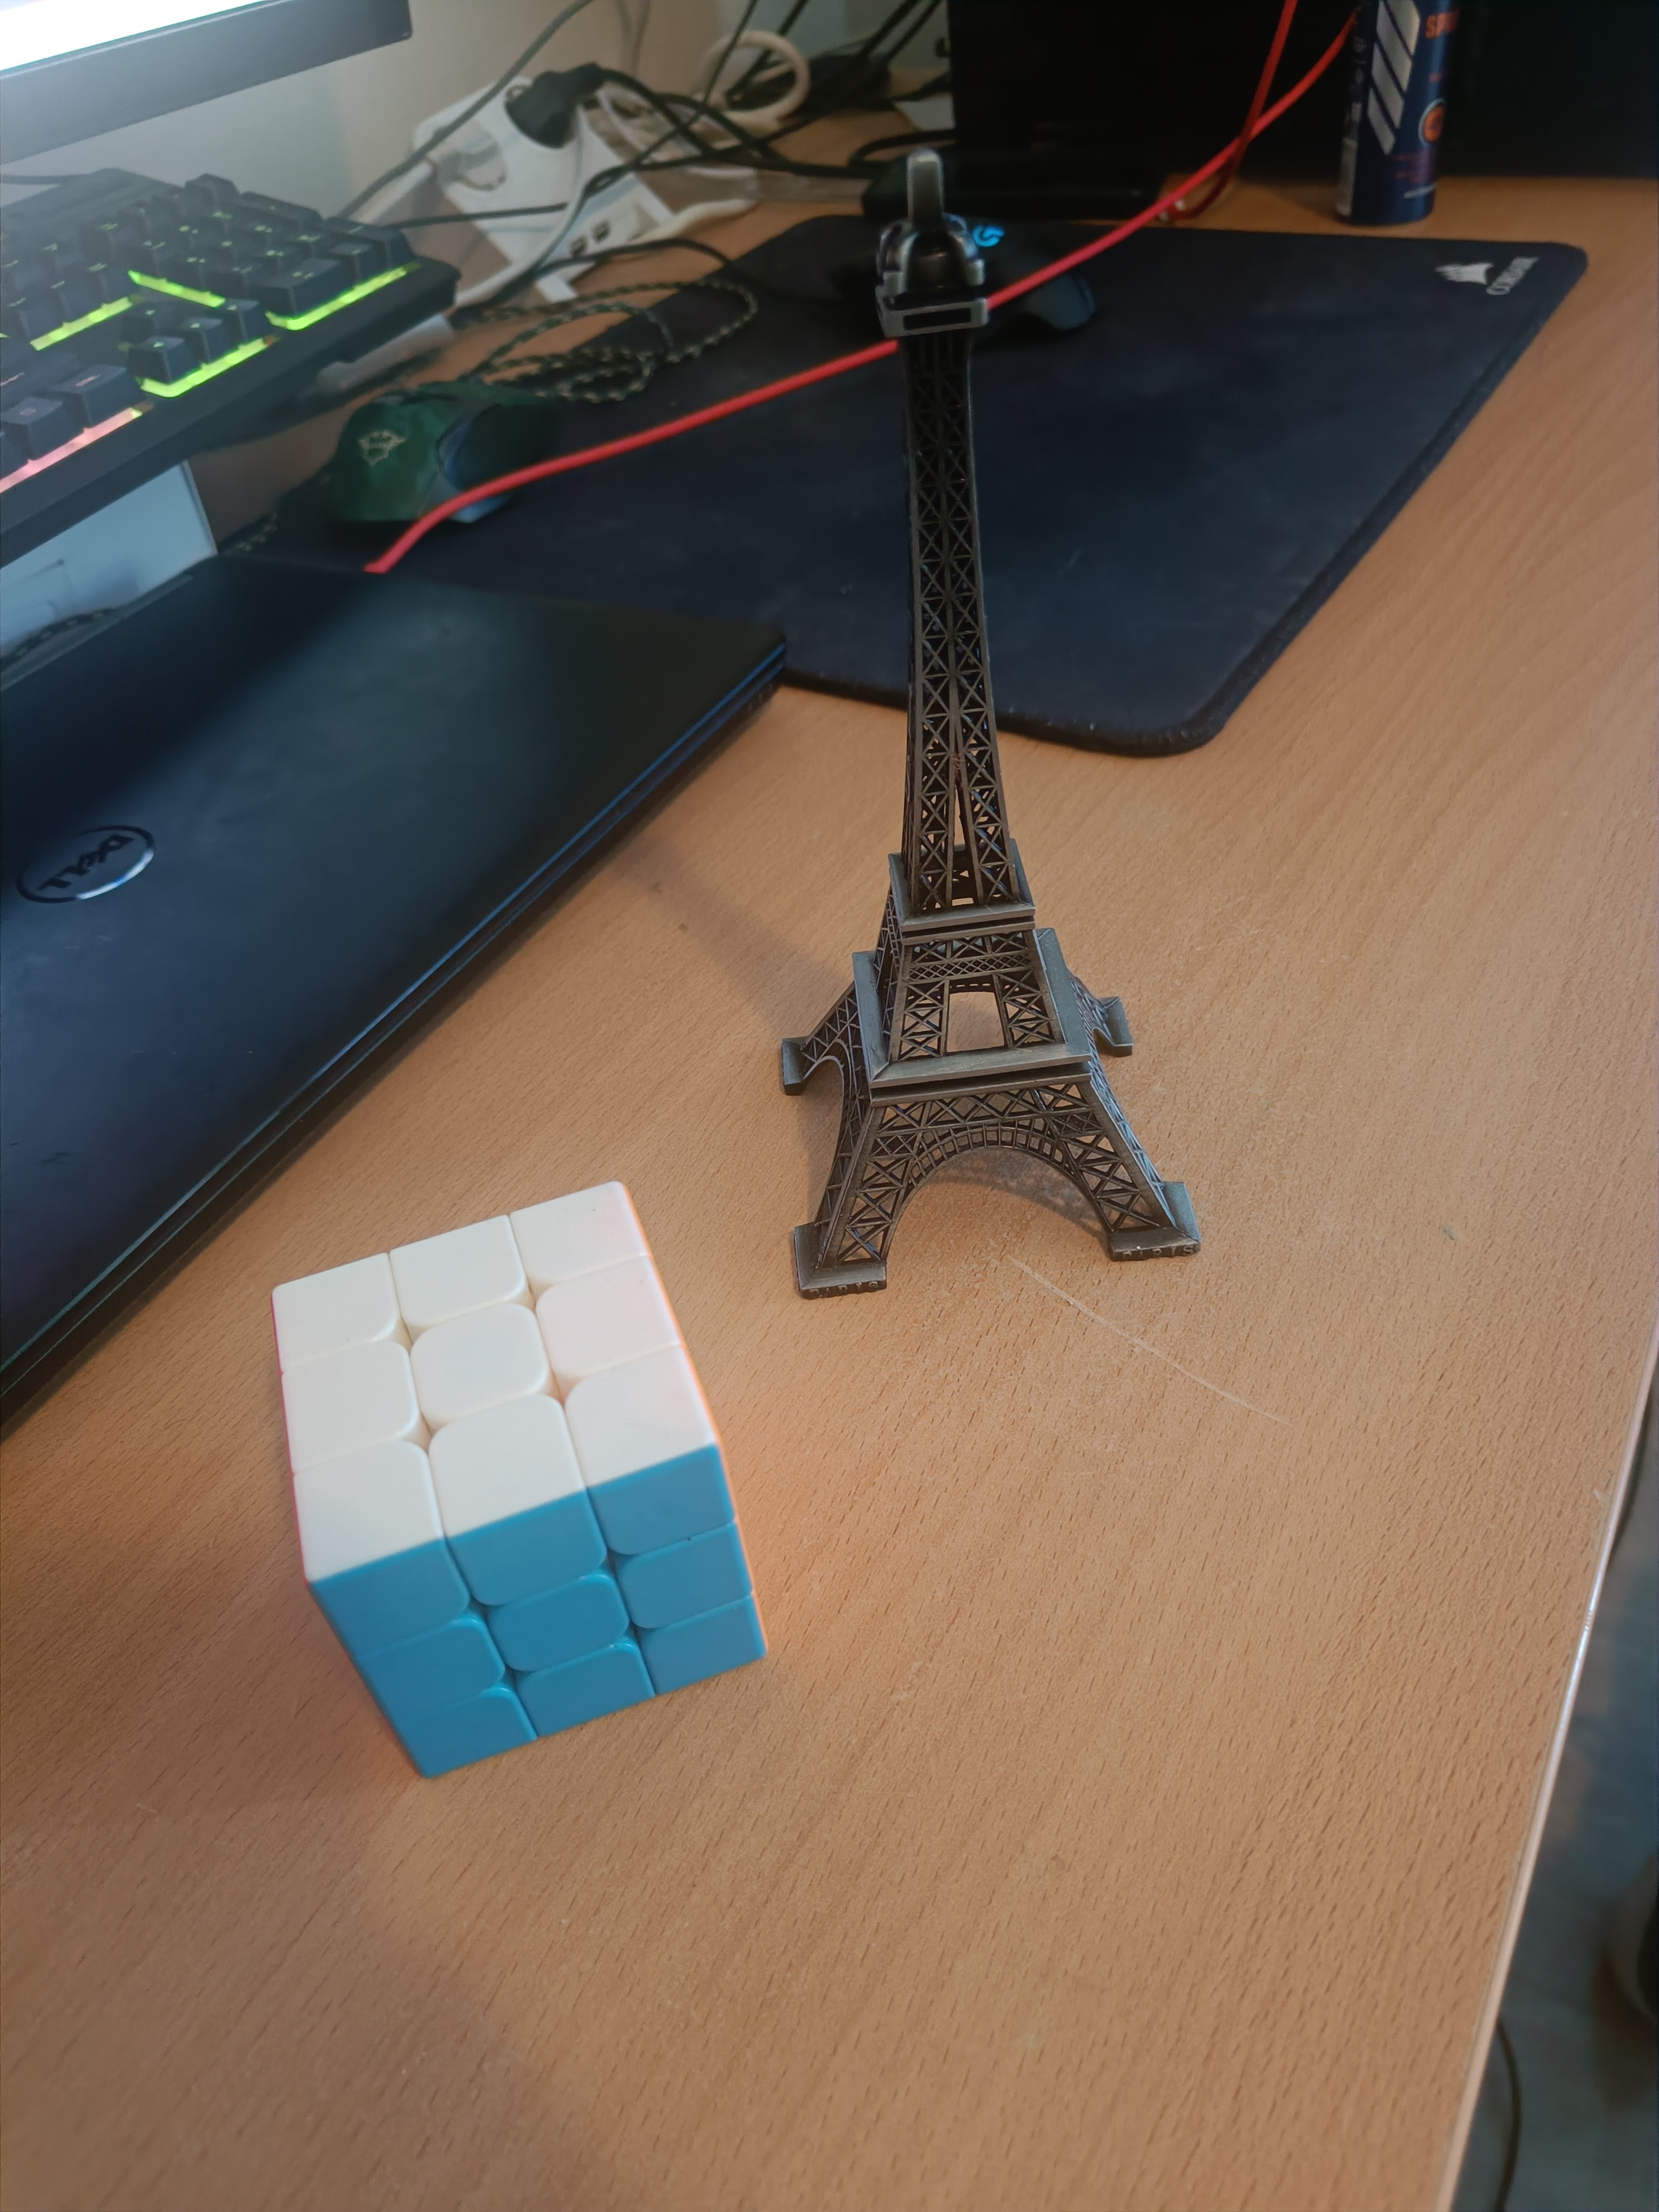Eiffel Tower: (765, 130, 1213, 1327)
Rubiks Cube: (260, 1171, 760, 1790)
